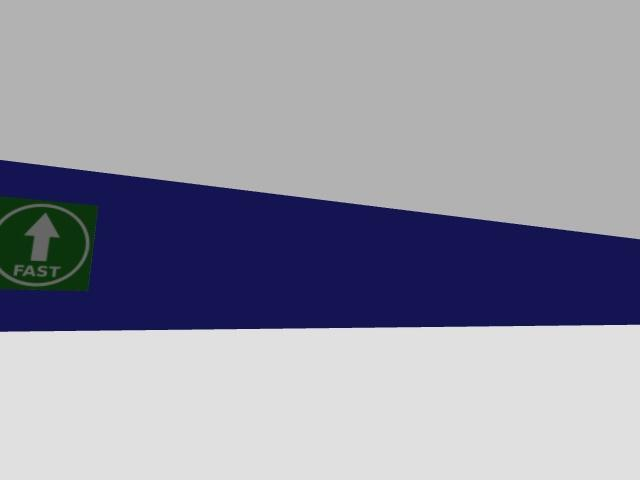fast: (0, 196, 97, 290)
